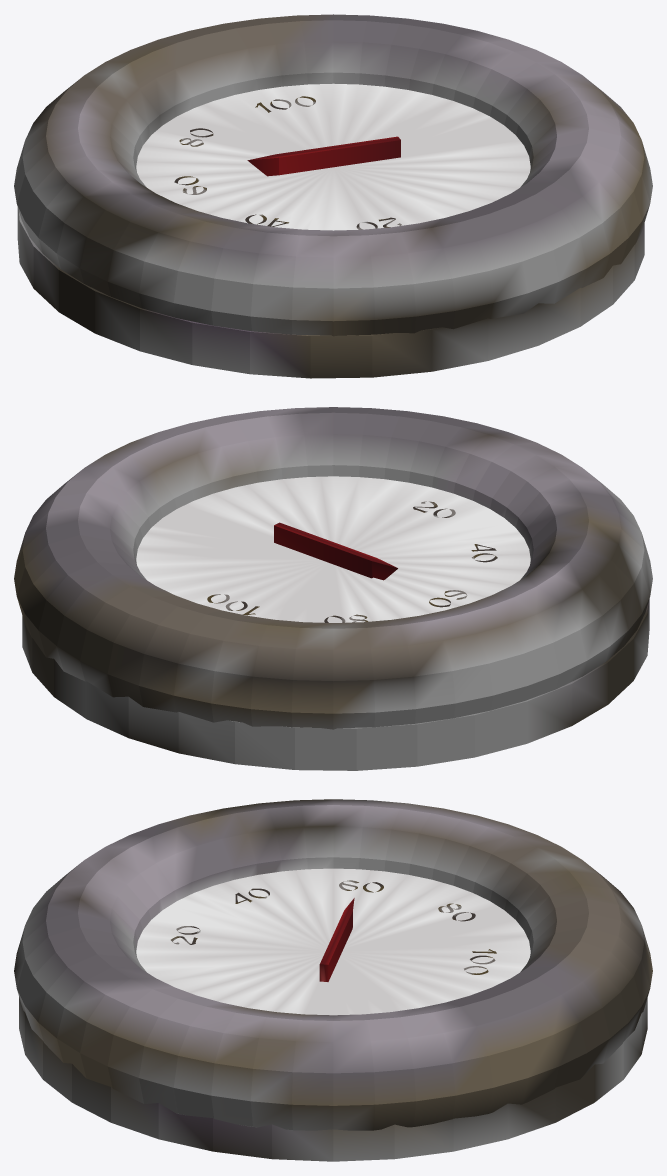
File: speedometer.fbx
3 views of the same model, one above another, from view 1: azimuth 30°, elevation 25°; view 2: azimuth 150°, elevation 25°; view 3: azimuth 270°, elevation 25° (orthographic).
Visible parts, largest first — view 1: OuterRing, MeterFace, Cube, Text; view 2: OuterRing, MeterFace, Cube, Text; view 3: OuterRing, MeterFace, Cube, Text.
Boxes of the visible parts, box(x1,y1,x2,y2) form: OuterRing: box(14, 14, 652, 378); MeterFace: box(136, 83, 530, 230); Cube: box(247, 136, 400, 176); Text: box(174, 96, 401, 229); OuterRing: box(14, 407, 652, 770); MeterFace: box(136, 476, 530, 622); Cube: box(274, 522, 397, 580); Text: box(207, 501, 497, 622); OuterRing: box(14, 799, 652, 1161); MeterFace: box(136, 868, 530, 1015); Cube: box(319, 898, 354, 981); Text: box(171, 880, 496, 974).
Bounding box in the file's own units: 250 × 50.54 × 250.
